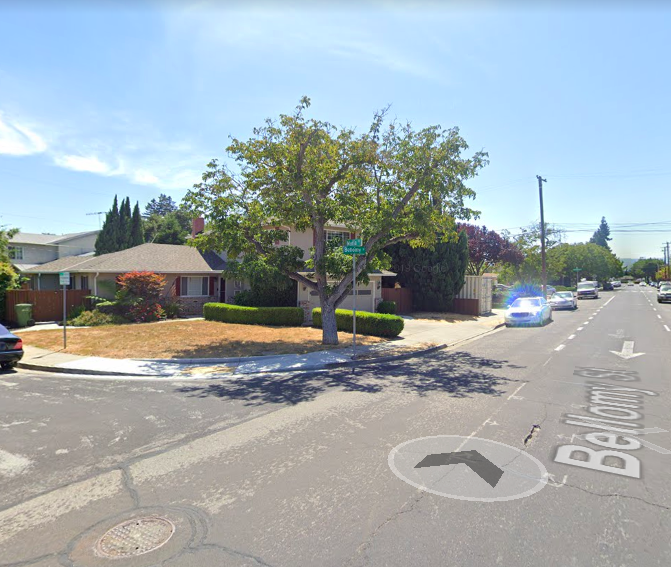tree: (177, 94, 491, 345)
